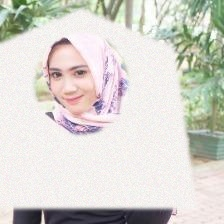Mukena: (0, 7, 193, 209)
